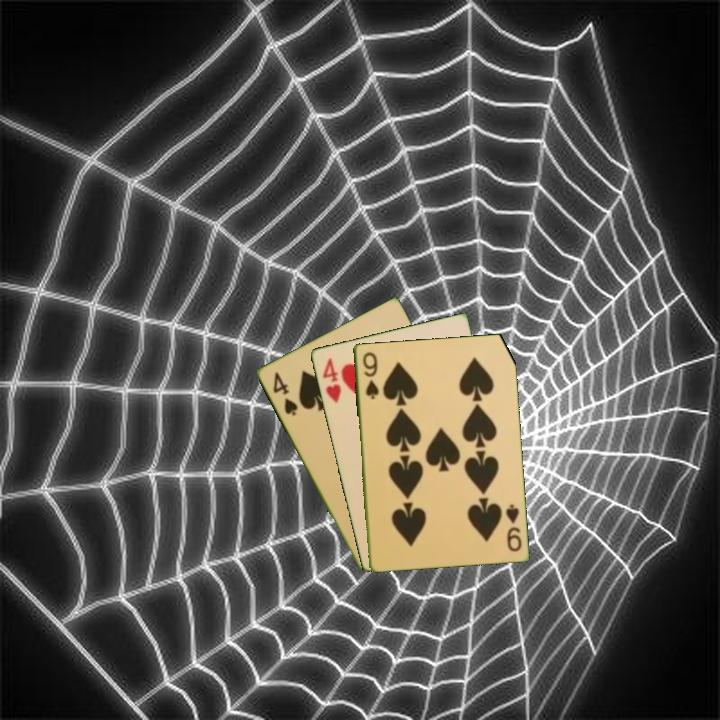4h: (319, 354, 344, 406)
4s: (269, 368, 300, 419)
9s: (359, 348, 382, 402), (502, 501, 524, 554)
